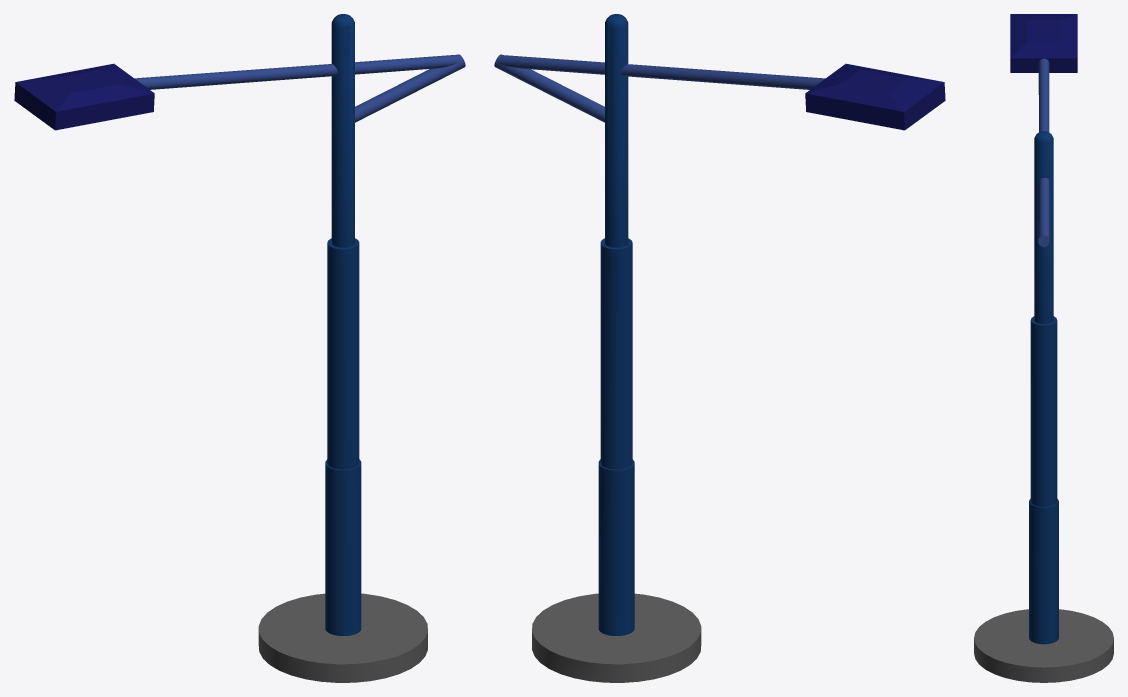
The model's file is farola1.fbx.
3 renders of one model, left to right at view 1: azimuth 30°, elevation 25°; view 2: azimuth 150°, elevation 25°; view 3: azimuth 270°, elevation 25°, orthographic. The views are drawn at different scales.
Visible parts, largest first — view 1: Cylinder.001; view 2: Cylinder.001; view 3: Cylinder.001.
Part boxes in pixels (left/top/right/bottom): Cylinder.001: left=14, top=14, right=465, bottom=682; Cylinder.001: left=494, top=14, right=945, bottom=682; Cylinder.001: left=974, top=14, right=1113, bottom=682.
Bounding box in the file's own units: 1250 × 1760 × 429.
